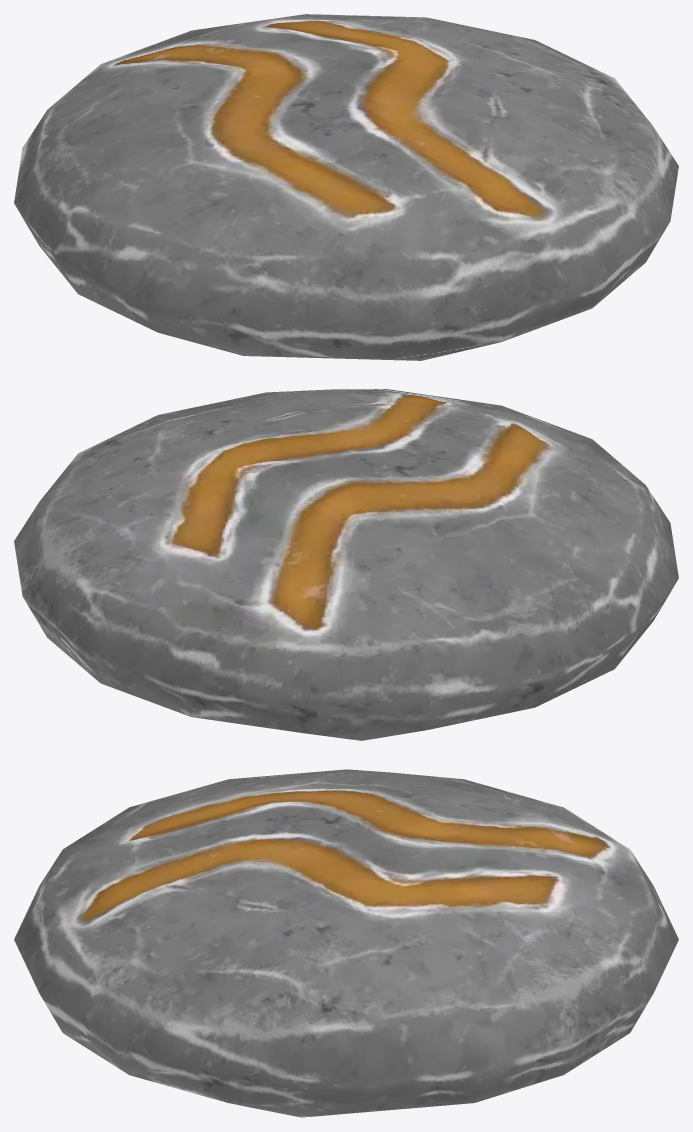
The picture shows the model from 3 angles, top to bottom: view 1: azimuth 30°, elevation 25°; view 2: azimuth 150°, elevation 25°; view 3: azimuth 270°, elevation 25°; orthographic projection.
Visible parts, largest first — view 1: SM_Earth_Rune_01_LOD0; view 2: SM_Earth_Rune_01_LOD0; view 3: SM_Earth_Rune_01_LOD0.
Part boxes in pixels (x1=…): SM_Earth_Rune_01_LOD0: x1=14, y1=14, x2=678, y2=360; SM_Earth_Rune_01_LOD0: x1=14, y1=389, x2=678, y2=740; SM_Earth_Rune_01_LOD0: x1=14, y1=769, x2=678, y2=1117.
Size of the model in its own units: 0.2232 by 0.0792 by 0.2232.
1 material, 1 textured.
